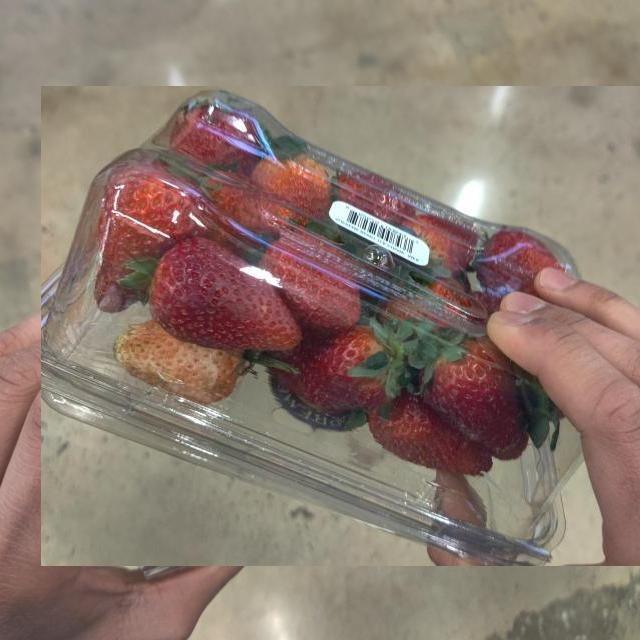Straw Berry: (41, 86, 640, 566)
